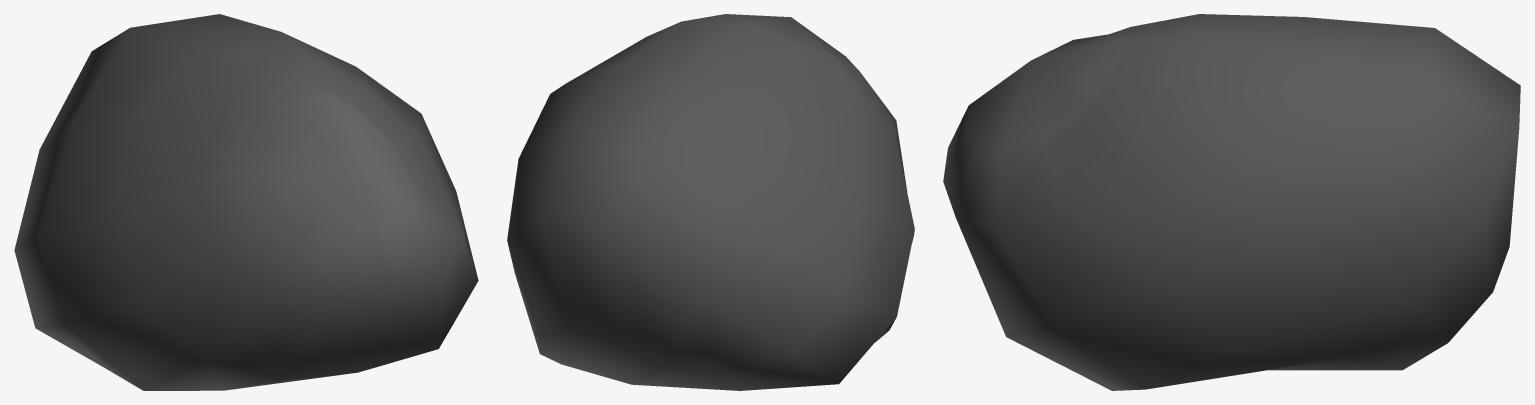
The model's file is Rock1.fbx.
3 views of the same model, side by side, from view 1: azimuth 30°, elevation 25°; view 2: azimuth 150°, elevation 25°; view 3: azimuth 270°, elevation 25° (orthographic). The views are drawn at different scales.
Visible parts, largest first — view 1: Rock1; view 2: Rock1; view 3: Rock1.
Part boxes in pixels (x1,y1,x2,y2): Rock1: (14, 14, 478, 390); Rock1: (507, 14, 914, 390); Rock1: (943, 14, 1520, 390).
Bounding box in the file's own units: 53.82 × 41.85 × 66.15.
